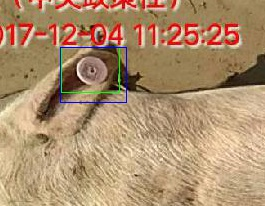text: (61, 47, 119, 92)
